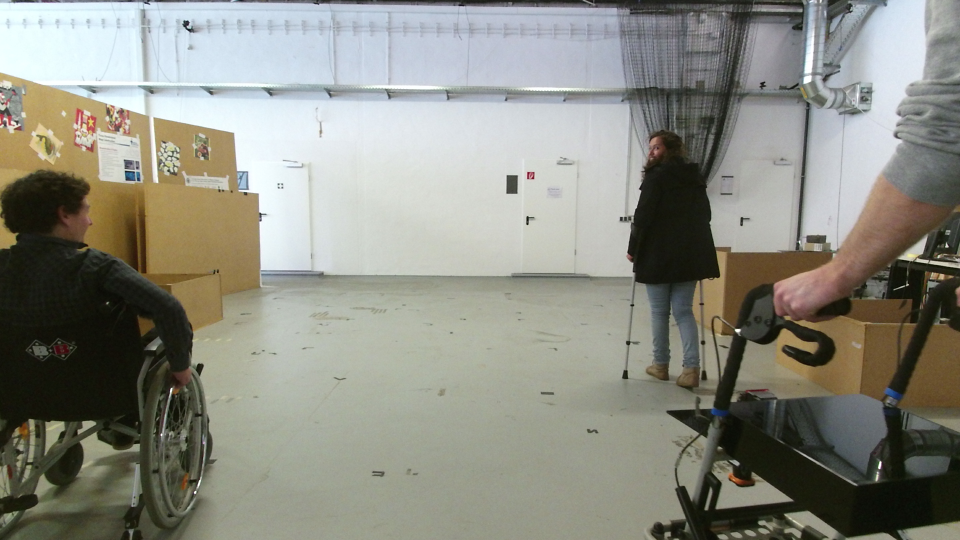crutches: (614, 122, 722, 395)
wheelchair: (1, 167, 208, 540)
